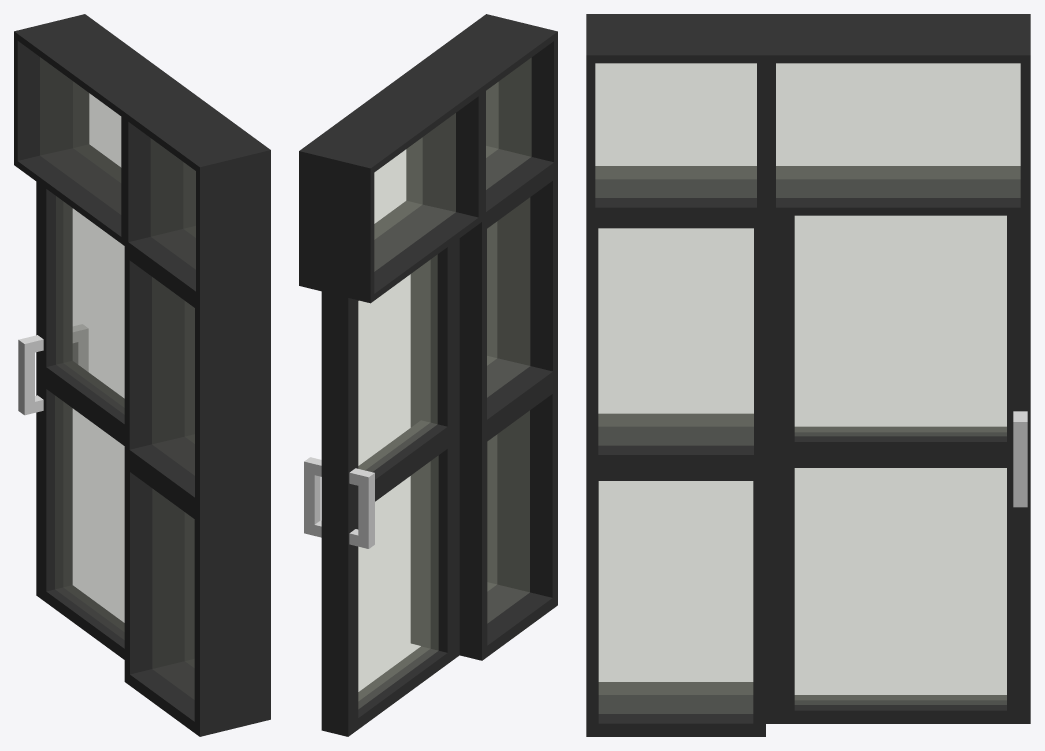
Rendered from S.FrontDoor.fbx.
3 renders of one model, left to right at view 1: azimuth 30°, elevation 25°; view 2: azimuth 150°, elevation 25°; view 3: azimuth 270°, elevation 25°, orthographic. The views are drawn at different scales.
Parts seen in each view (by area): view 1: Cube; view 2: Cube; view 3: Cube.
Boxes of the visible parts, x1=… form: Cube: x1=14, y1=14, x2=270, y2=736; Cube: x1=299, y1=14, x2=557, y2=736; Cube: x1=586, y1=14, x2=1030, y2=736.
Size of the model in its own units: 109 by 838 by 495.
